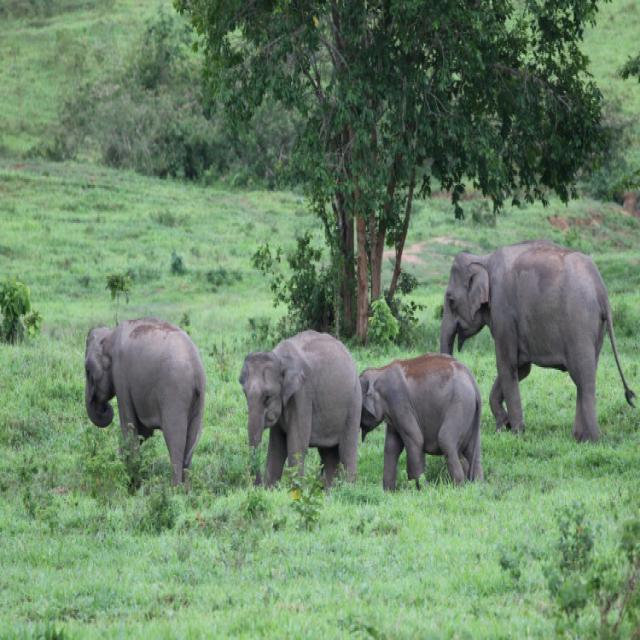Elephant: (438, 242, 636, 447), (82, 320, 209, 490), (241, 336, 363, 497), (353, 356, 490, 489)
